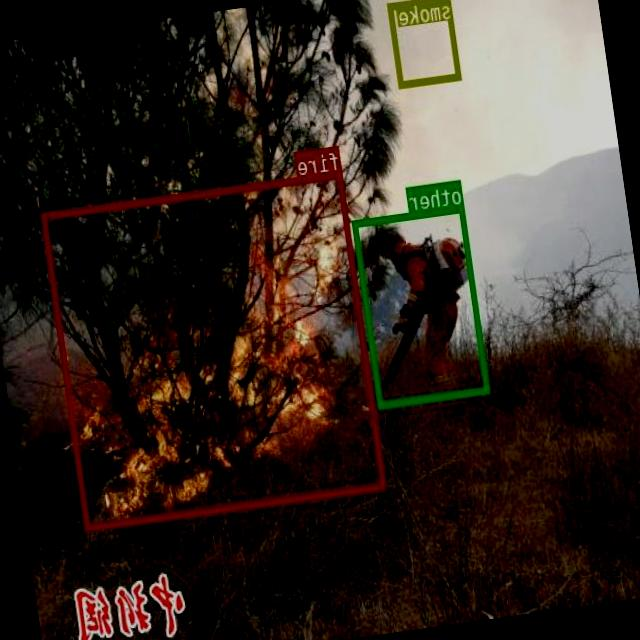fire: (41, 170, 387, 530)
smoke: (388, 0, 463, 87)
